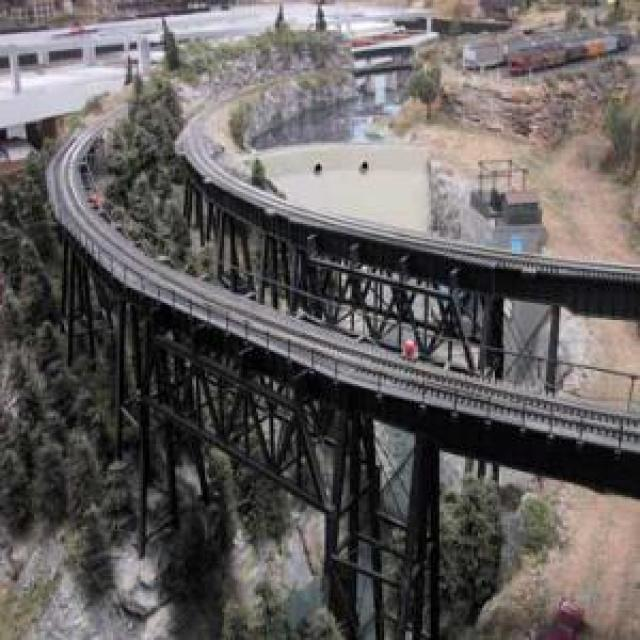rail: (50, 98, 640, 448), (176, 87, 640, 279)
